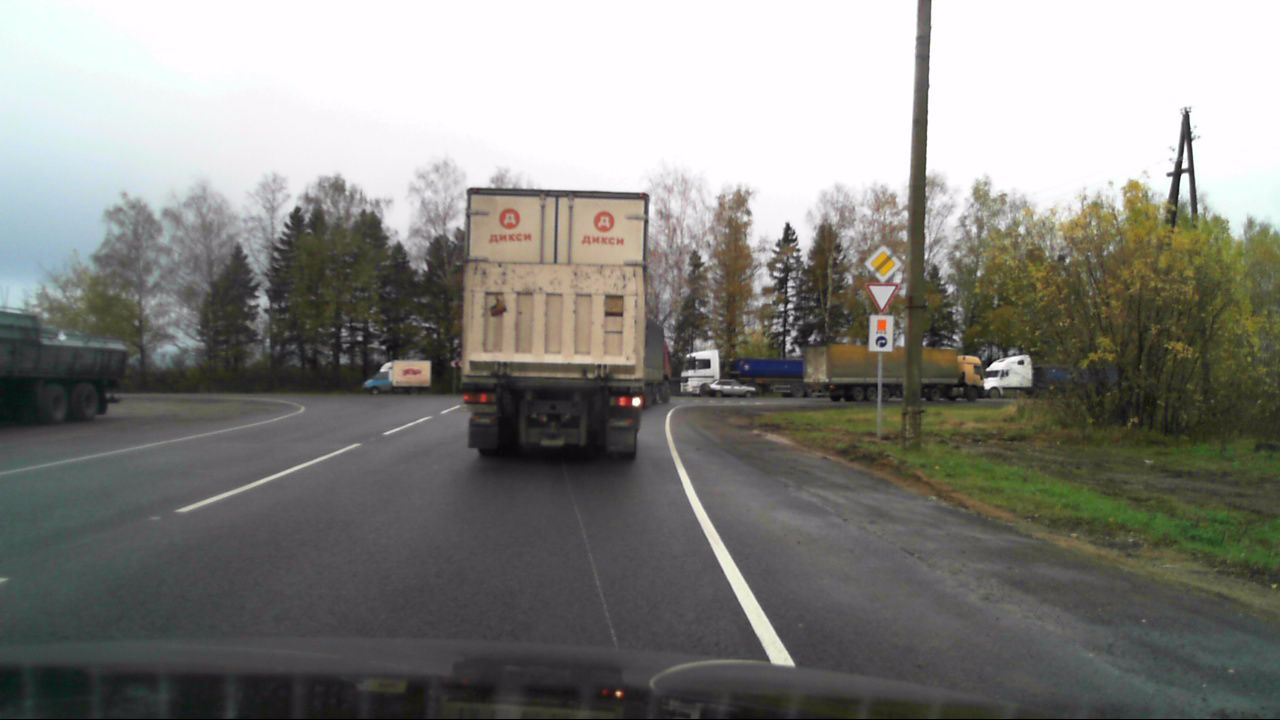main road: (863, 246, 901, 283)
